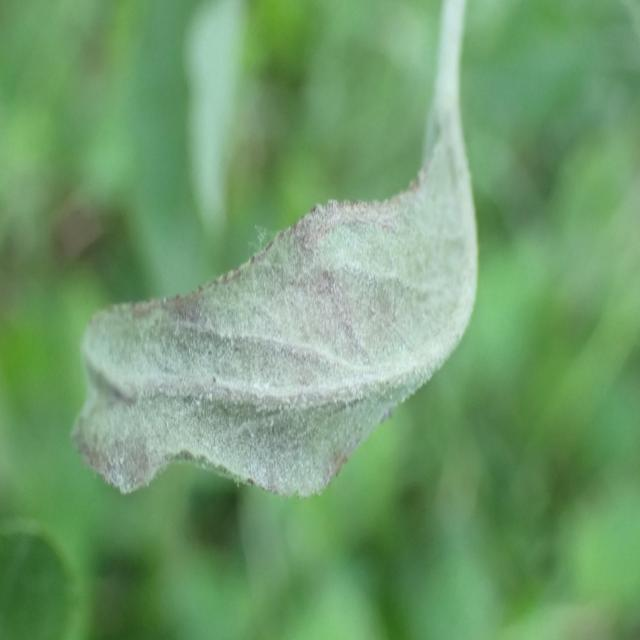Powdery_mildew: (47, 0, 491, 521)
